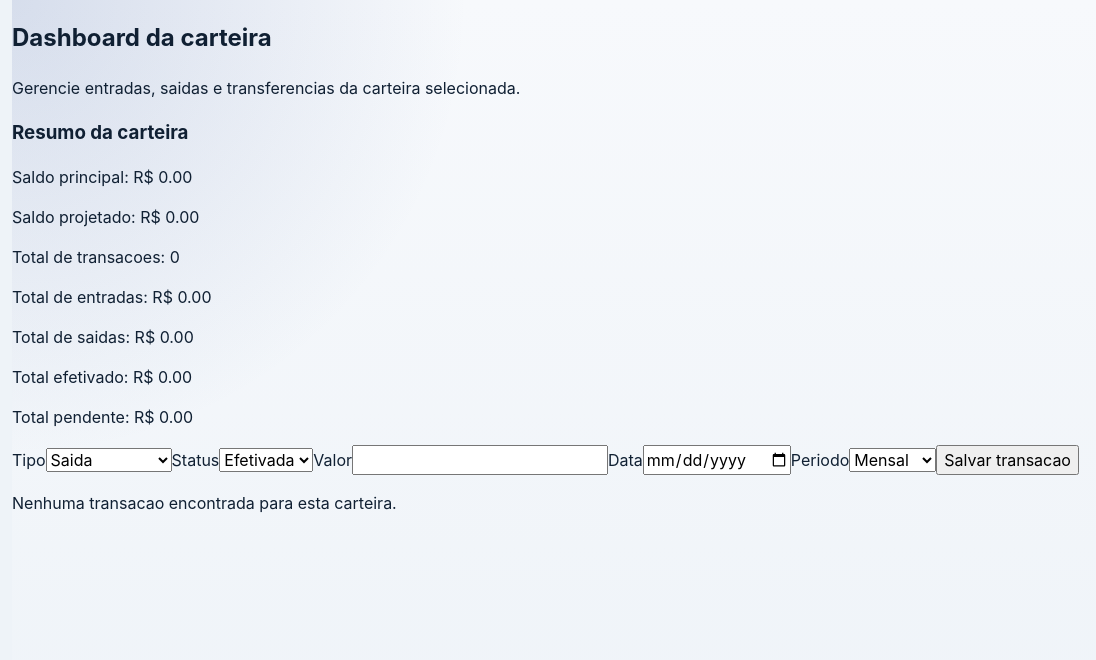
Test: transaction happy path › cria uma transacao e mostra feedback visual com lista atualizada
Select "Entrada" in the dropdown labelled "Tipo" at [109, 460], box top-left (46, 448), bottom-right (172, 472)
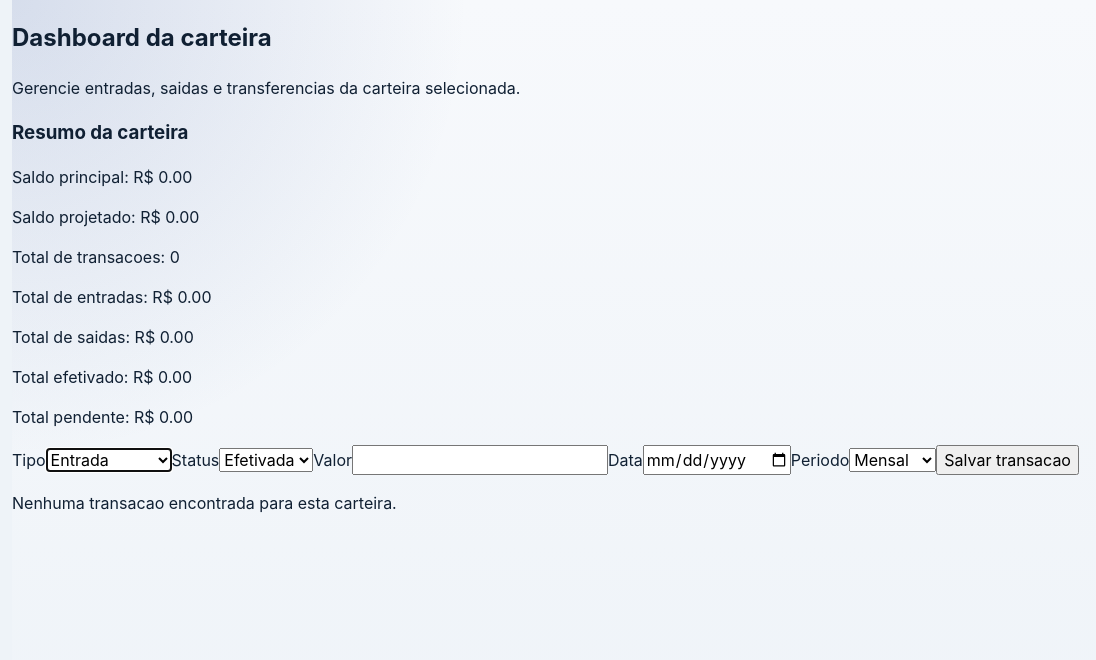
Type "250.00" into the number field labelled "Valor".
click(480, 460); type("250.00")  # box top-left (352, 445), bottom-right (608, 475)
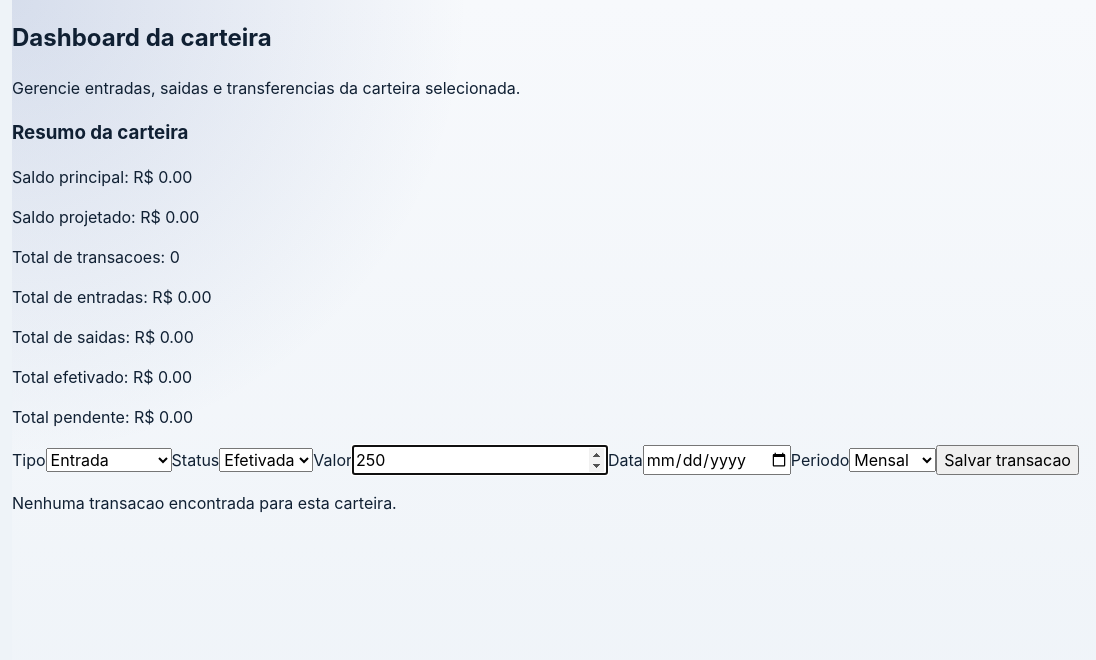
Type "2026-05-28" into the date field labelled "Data".
click(717, 460); type("2026-05-28")  # box top-left (643, 445), bottom-right (791, 475)
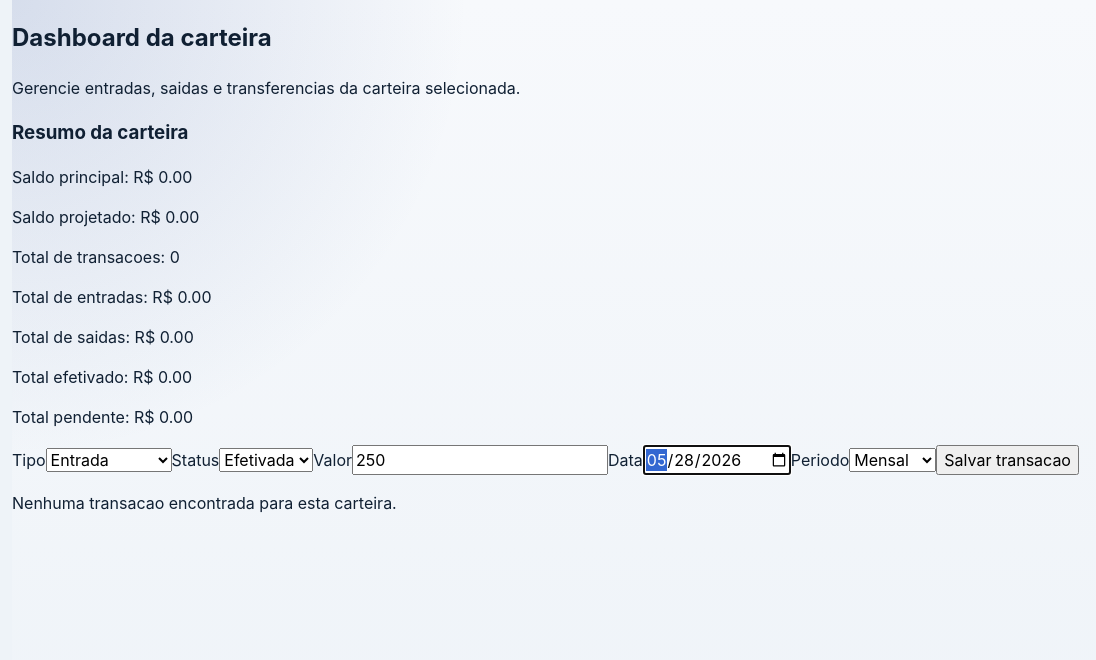
Click the button "Salvar transacao".
click(1008, 460)  # box top-left (936, 445), bottom-right (1079, 475)
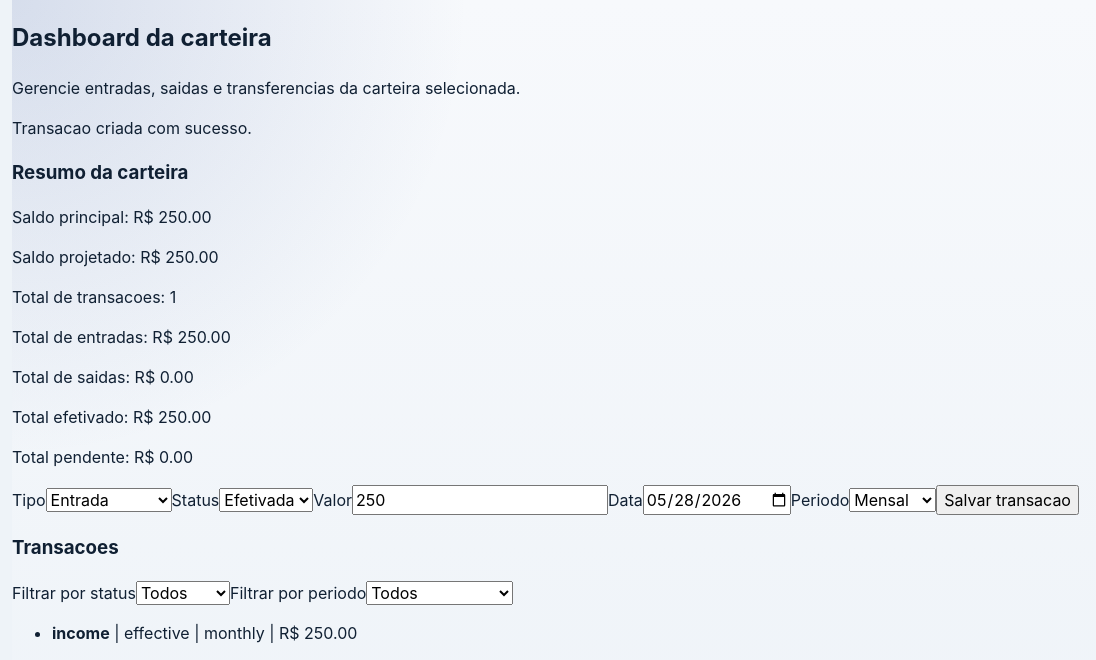
expect the message reads "Transacao criada com sucesso.": met, box top-left (12, 118), bottom-right (252, 138)
expect the text "income" is shown: met, box top-left (52, 623), bottom-right (110, 643)
